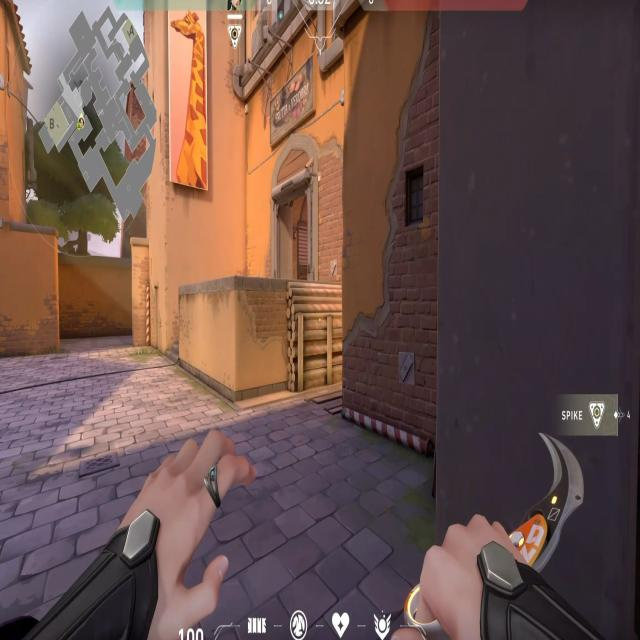B_Cubby: (229, 276, 341, 391)
